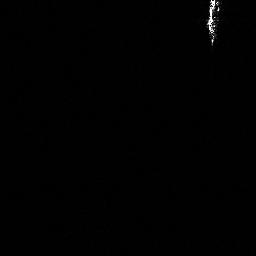ship: (203, 1, 223, 48)
